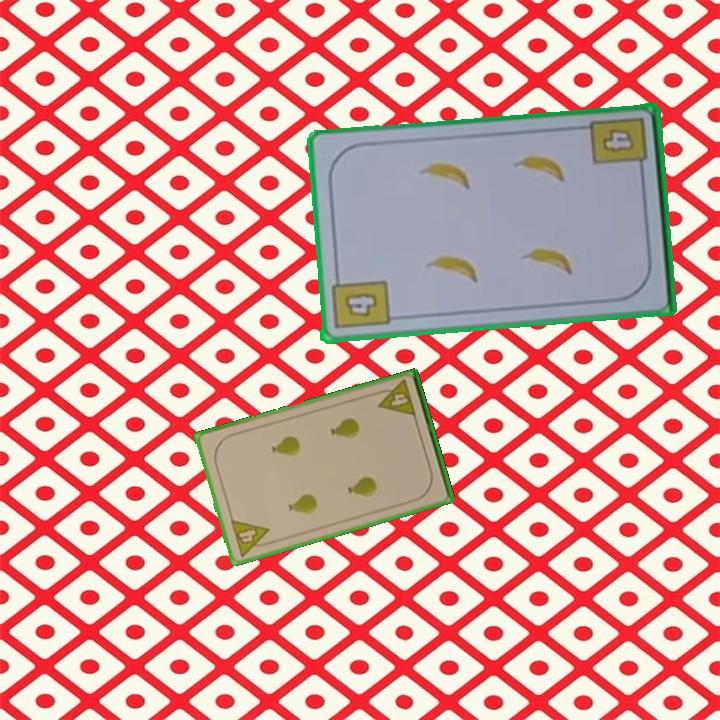4b: (327, 270, 392, 332), (597, 125, 637, 156)
4p: (227, 516, 275, 560), (372, 376, 419, 420)
